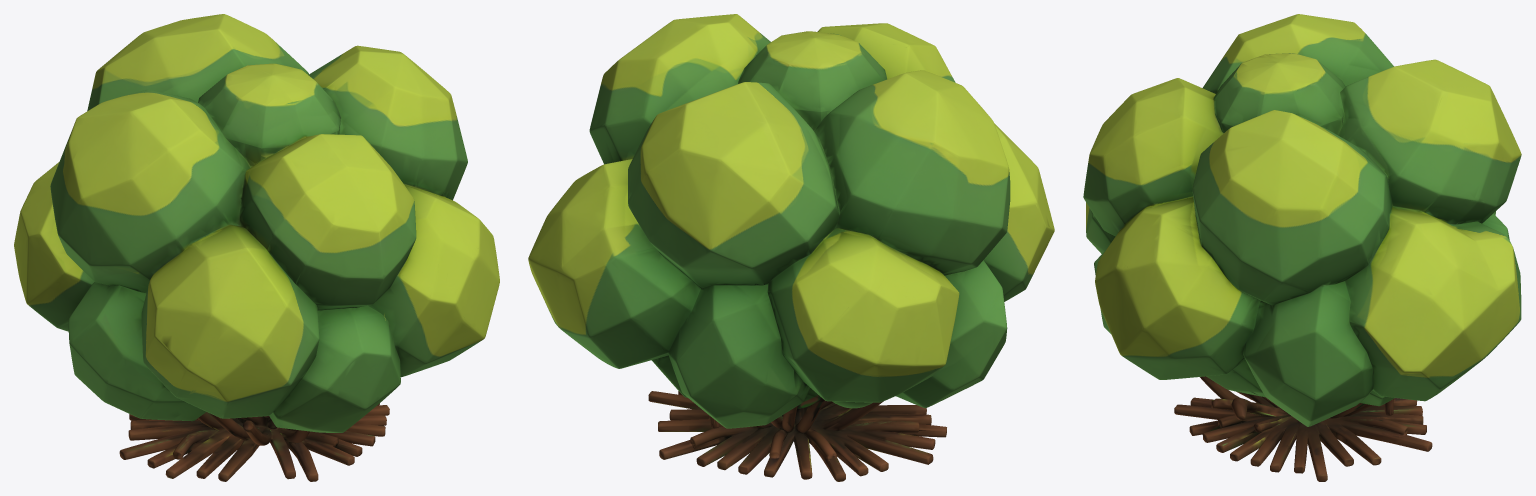
The model's file is bush-round-a.glb.
3 views of the same model, side by side, from view 1: azimuth 30°, elevation 25°; view 2: azimuth 150°, elevation 25°; view 3: azimuth 270°, elevation 25° (orthographic). The views are drawn at different scales.
Visible parts, largest first — view 1: node_0; view 2: node_0; view 3: node_0.
Boxes of the visible parts, x1,y1,x2,y2 form: node_0: (14, 14, 499, 481); node_0: (528, 14, 1054, 481); node_0: (1083, 14, 1521, 481).
Bounding box in the file's own units: 1.04 × 0.9135 × 1.02.
Materials: 1 (1 with a texture image).
